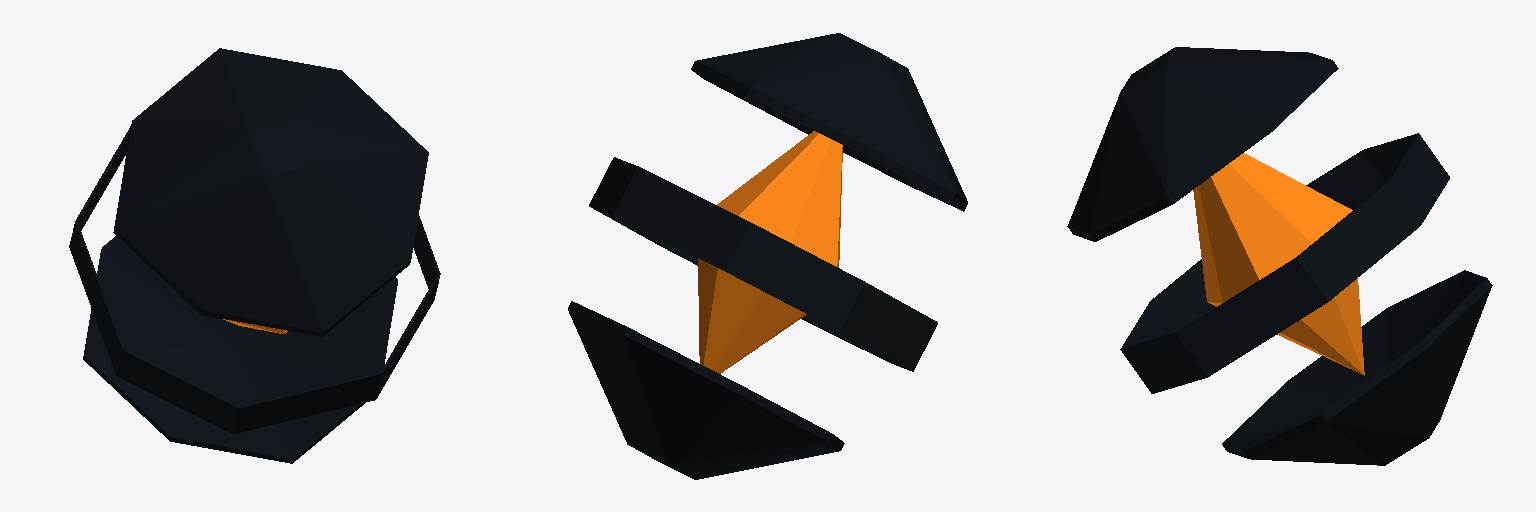
Rendered from heat_core.obj.
3 renders of one model, left to right at view 1: azimuth 30°, elevation 25°; view 2: azimuth 150°, elevation 25°; view 3: azimuth 270°, elevation 25°, orthographic.
Visible parts, largest first — view 1: crystal_Plane.004; view 2: crystal_Plane.004; view 3: crystal_Plane.004.
Boxes of the visible parts, <box> form: crystal_Plane.004: <box>69,48,440,463</box>; crystal_Plane.004: <box>568,33,967,479</box>; crystal_Plane.004: <box>1067,47,1492,465</box>.
Bounding box in the file's own units: 2.06 × 2.27 × 2.29.